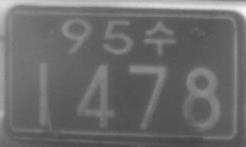1: (26, 61, 61, 125)
4: (75, 63, 116, 129)
5: (102, 19, 133, 55)
7: (128, 64, 167, 129)
8: (181, 66, 220, 133)
9: (61, 17, 92, 52)
수: (144, 21, 176, 55)
